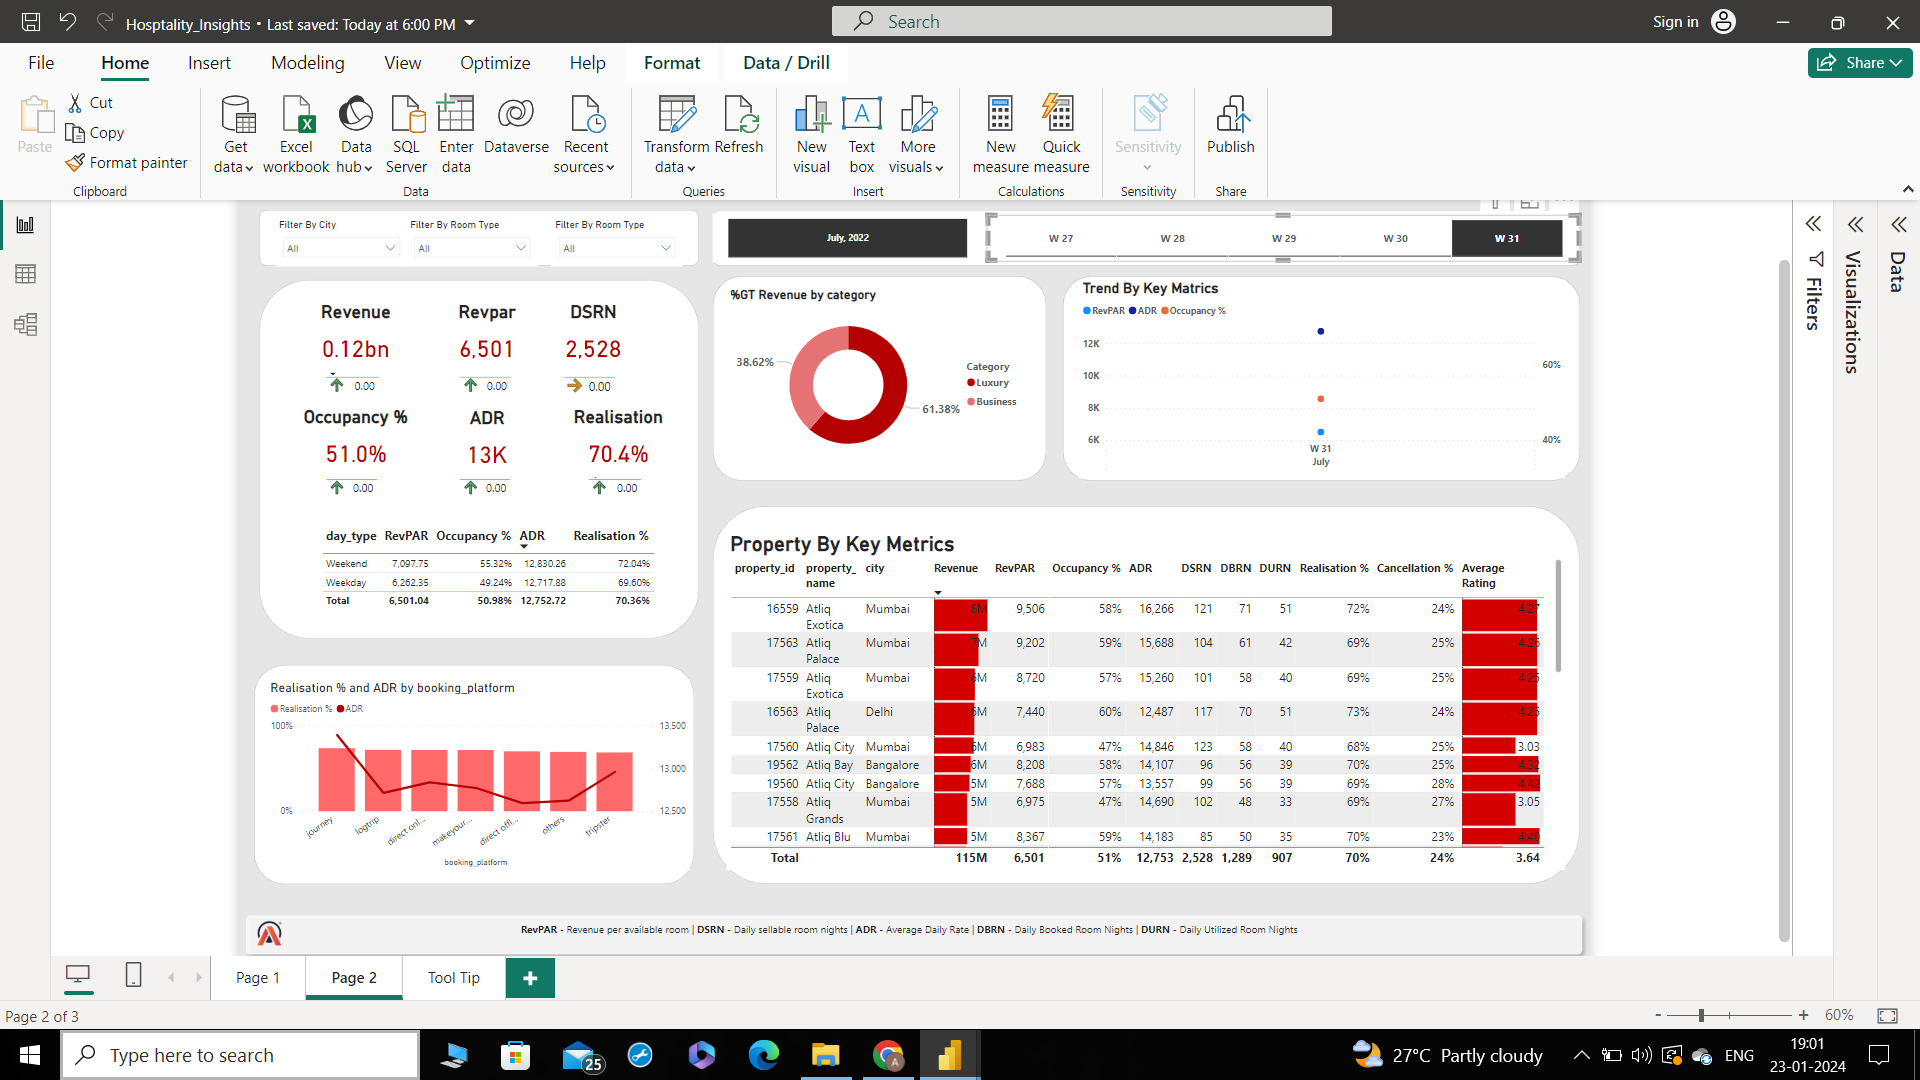

The dashboard page shown, as its layout file describes it:
{"tool":"powerbi","page":{"name":"Page 2","canvas":[1800,1100],"ordinal":1},"visuals":[{"type":"shape","box":[0,1016,1800,70],"z":0},{"type":"shape","box":[20,691.4,587.1,292.9],"z":1000},{"type":"shape","box":[632,480,1156,504],"z":2000},{"type":"shape","box":[1098.3,173.3,690,273.3],"z":3000},{"type":"shape","box":[631.7,173.3,445,273.3],"z":4000},{"type":"shape","box":[631.7,85,1156.7,75],"z":5000},{"type":"shape","box":[27.1,178.6,587.1,478.6],"z":6000},{"type":"shape","box":[26.7,85,586.7,75],"z":7000},{"type":"tableEx","title":"Property By Key Metrics","fields":{"Values":["dim_hotels.property_id","dim_hotels.property_name","dim_hotels.city","key_measures (2).Revenue","key_measures (2).RevPAR","key_measures (2).Occupancy %","key_measures (2).ADR","key_measures (2).DSRN","key_measures (2).DBRN","key_measures (2).DURN","key_measures (2).Realisation %","key_measures (2).Cancellation %"]},"box":[650,515.7,1118.6,450],"z":8000},{"type":"slicer","title":"Filter By City","fields":{"Values":["dim_hotels.city"]},"box":[48,96,176,64],"z":9000},{"type":"slicer","title":"Filter By Room Type","fields":{"Values":["dim_rooms.room_class"]},"box":[417,96,175,64],"z":10000},{"type":"slicer","fields":{"Values":["dim_date.mmm yy"]},"box":[631.7,90,358.3,65],"z":11000},{"type":"slicer","fields":{"Values":["dim_date.week no"]},"box":[996.7,91.7,791.7,63.3],"z":12000},{"type":"tableEx","fields":{"Values":["key_measures (2).\"Revenue WoW change %"]},"box":[110.8,281.5,88.5,57.7],"z":13000},{"type":"donutChart","fields":{"Category":["dim_hotels.category"],"Y":["key_measures (2).Revenue"]},"box":[650,188.3,405,241.7],"z":14000},{"type":"lineStackedColumnComboChart","fields":{"Category":["fact_bookings.booking_platform"],"Y":["key_measures (2).Realisation %"],"Y2":["key_measures (2).ADR"]},"box":[37.1,711.4,564.3,254.3],"z":15000},{"type":"lineChart","title":"Trend By Key Matrics","fields":{"Category":["dim_date.mmm yy.Variation.Date Hierarchy.Month","dim_date.week no"],"Y2":["key_measures (2).Occupancy %"],"Y":["key_measures (2).RevPAR","key_measures (2).ADR"]},"box":[1120,178.3,648.3,265],"z":16000},{"type":"tableEx","fields":{"Values":["dim_date.day_type","key_measures (2).RevPAR","key_measures (2).Occupancy %","key_measures (2).ADR","key_measures (2).Realisation %"]},"box":[105,500,455,126.7],"z":17000},{"type":"slicer","title":"Filter By Room Type","fields":{"Values":["dim_rooms.room_class"]},"box":[224,96,175,64],"z":18000},{"type":"image","box":[0,1028,81.3,42.7],"z":20000},{"type":"textbox","box":[345,1029.6,1093.6,39],"z":21000},{"type":"tableEx","fields":{"Values":["key_measures (2).\"DSRN WoW change %"]},"box":[426.9,281.5,88.5,56.2],"z":22000},{"type":"tableEx","fields":{"Values":["key_measures (2).\"Revpar WoW change %"]},"box":[287.7,281.5,89.2,55.4],"z":23000},{"type":"card","title":"DSRN","fields":{"Values":["key_measures (2).DSRN"]},"box":[384.3,206.8,175,95],"z":24000},{"type":"card","title":"Revpar","fields":{"Values":["key_measures (2).RevPAR"]},"box":[242.7,206.5,175,95],"z":25000},{"type":"card","title":"Revenue","fields":{"Values":["key_measures (2).Revenue"]},"box":[67.7,206.5,175,95],"z":26000},{"type":"tableEx","fields":{"Values":["key_measures (2).\"Occupancy WoW change %"]},"box":[110.8,417.7,88.5,57.7],"z":27000},{"type":"card","title":"Occupancy %","fields":{"Values":["key_measures (2).Occupancy %"]},"box":[67.7,347.5,175,95],"z":28000},{"type":"tableEx","fields":{"Values":["key_measures (2).\"ADR WoW change %"]},"box":[287.7,417.7,88.5,57.7],"z":29000},{"type":"tableEx","fields":{"Values":["key_measures (2).\"Revenue WoW change %"]},"box":[460,418.5,88.5,57.7],"z":30000},{"type":"card","title":"ADR","fields":{"Values":["key_measures (2).ADR"]},"box":[242.7,348.5,175,95],"z":31000},{"type":"card","title":"Realisation","fields":{"Values":["key_measures (2).Realisation %"]},"box":[417.7,347.5,175,95],"z":31500}]}

Visuals, with their boxes on the page's 1800x1100 design canvas (x1, y1, x2, y2). These are canvas units, not pixel positions in the 1920x1080 screenshot, which may show the page scaled, cropped or inside an application window:
shape: locate(0, 1016, 1800, 1086)
shape: locate(20, 691, 607, 984)
shape: locate(632, 480, 1788, 984)
shape: locate(1098, 173, 1788, 447)
shape: locate(632, 173, 1077, 447)
shape: locate(632, 85, 1788, 160)
shape: locate(27, 179, 614, 657)
shape: locate(27, 85, 613, 160)
"Property By Key Metrics" tableEx: locate(650, 516, 1769, 966)
"Filter By City" slicer: locate(48, 96, 224, 160)
"Filter By Room Type" slicer: locate(417, 96, 592, 160)
slicer - dim_date.mmm yy: locate(632, 90, 990, 155)
slicer - dim_date.week no: locate(997, 92, 1788, 155)
tableEx - key_measures (2)."Revenue WoW change %: locate(111, 282, 199, 339)
donutChart - dim_hotels.category x key_measures (2).Revenue: locate(650, 188, 1055, 430)
lineStackedColumnComboChart - fact_bookings.booking_platform x key_measures (2).Realisation %: locate(37, 711, 601, 966)
"Trend By Key Matrics" lineChart: locate(1120, 178, 1768, 443)
tableEx - dim_date.day_type x key_measures (2).RevPAR: locate(105, 500, 560, 627)
"Filter By Room Type" slicer: locate(224, 96, 399, 160)
image: locate(0, 1028, 81, 1071)
textbox: locate(345, 1030, 1439, 1069)
tableEx - key_measures (2)."DSRN WoW change %: locate(427, 282, 515, 338)
tableEx - key_measures (2)."Revpar WoW change %: locate(288, 282, 377, 337)
"DSRN" card: locate(384, 207, 559, 302)
"Revpar" card: locate(243, 206, 418, 302)
"Revenue" card: locate(68, 206, 243, 302)
tableEx - key_measures (2)."Occupancy WoW change %: locate(111, 418, 199, 475)
"Occupancy %" card: locate(68, 348, 243, 442)
tableEx - key_measures (2)."ADR WoW change %: locate(288, 418, 376, 475)
tableEx - key_measures (2)."Revenue WoW change %: locate(460, 418, 548, 476)
"ADR" card: locate(243, 348, 418, 444)
"Realisation" card: locate(418, 348, 593, 442)
